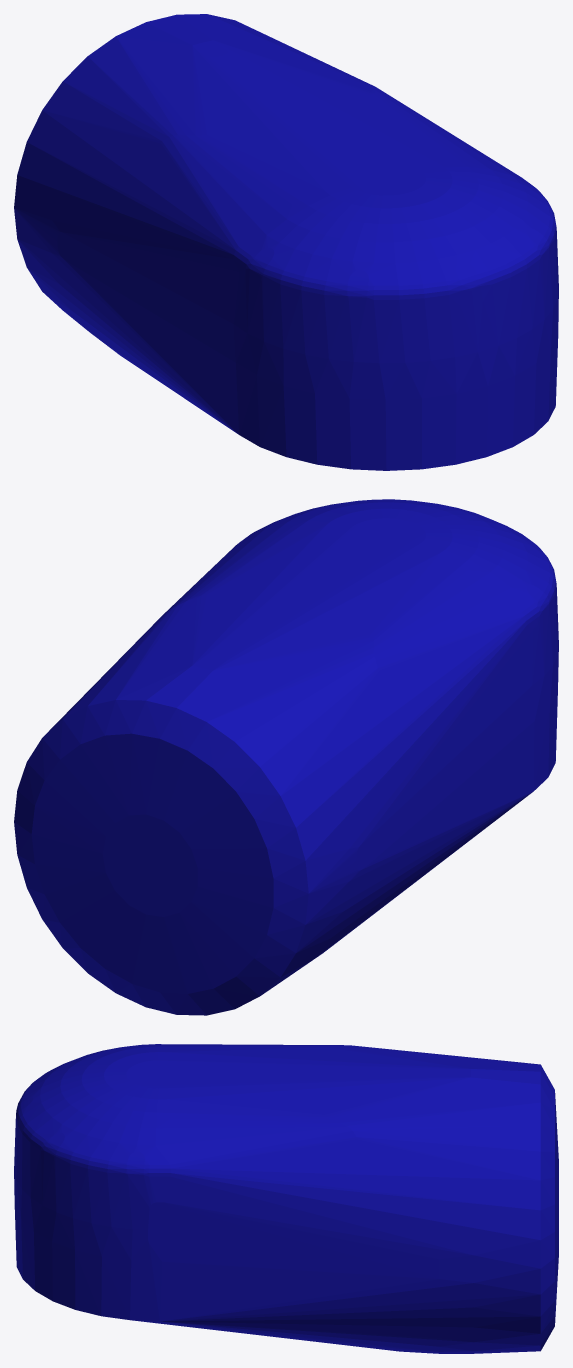
Rendered from MOTOMAN_AXIS_S_COLLISION.dae.
3 views of the same model, one above another, from view 1: azimuth 30°, elevation 25°; view 2: azimuth 150°, elevation 25°; view 3: azimuth 270°, elevation 25° (orthographic). The views are drawn at different scales.
Parts seen in each view (by area): view 1: node; view 2: node; view 3: node.
Part boxes in pixels (x1,y1,x2,y2): node: [14, 14, 558, 470]; node: [14, 499, 558, 1015]; node: [14, 1044, 558, 1353].
Bounding box in the file's own units: 0.218 × 0.22 × 0.4069.
